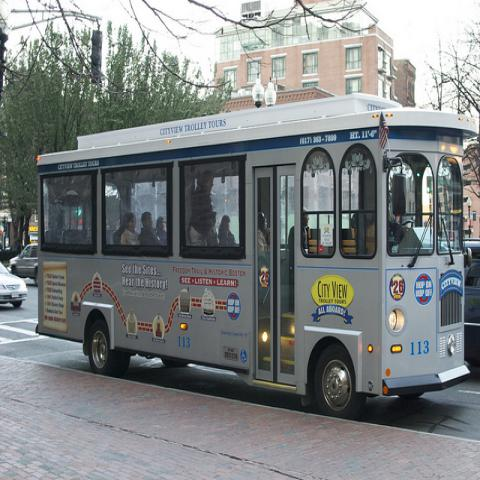bus: (32, 104, 480, 426)
car: (0, 258, 31, 317), (463, 264, 479, 370), (9, 242, 38, 289)
